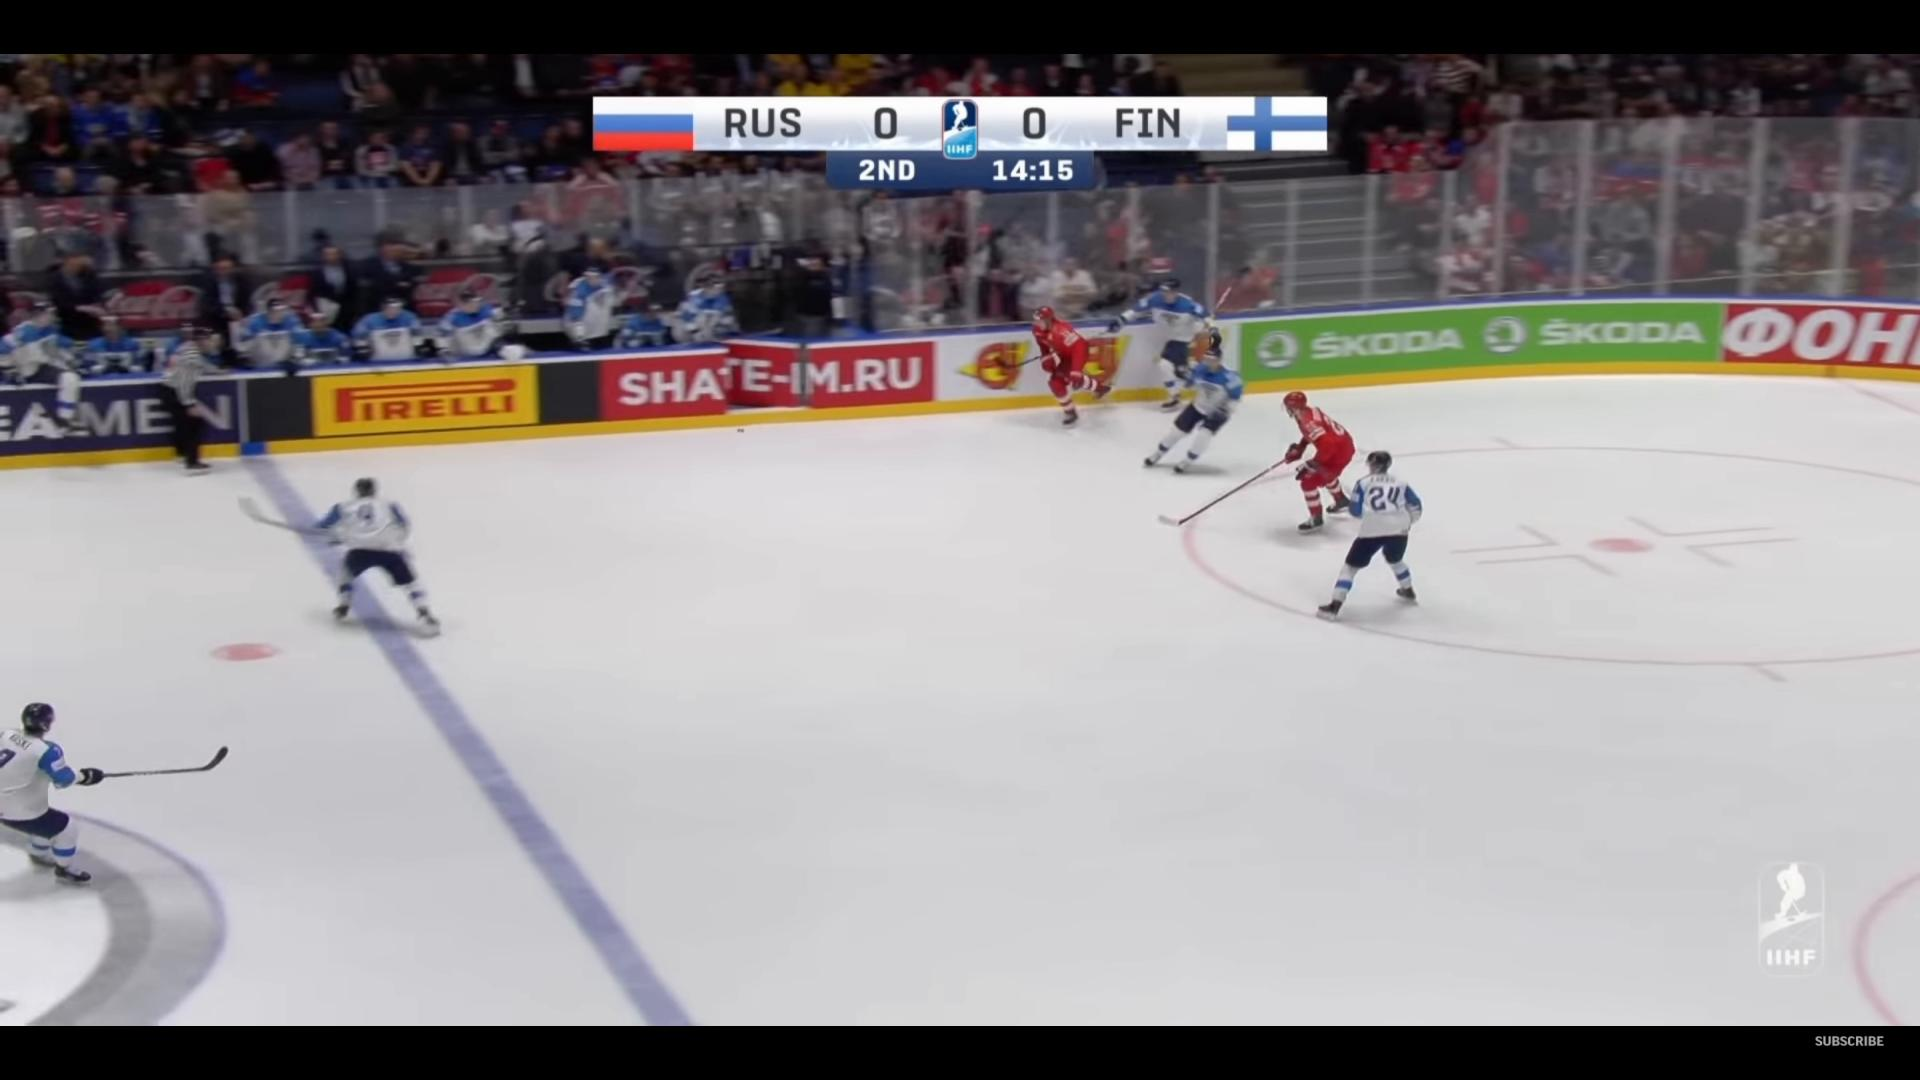puck: (736, 427, 745, 433)
